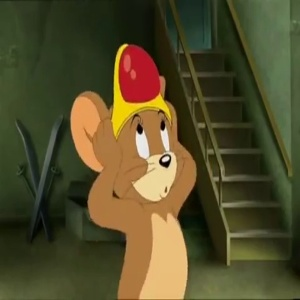Jerry: (70, 49, 195, 206)
